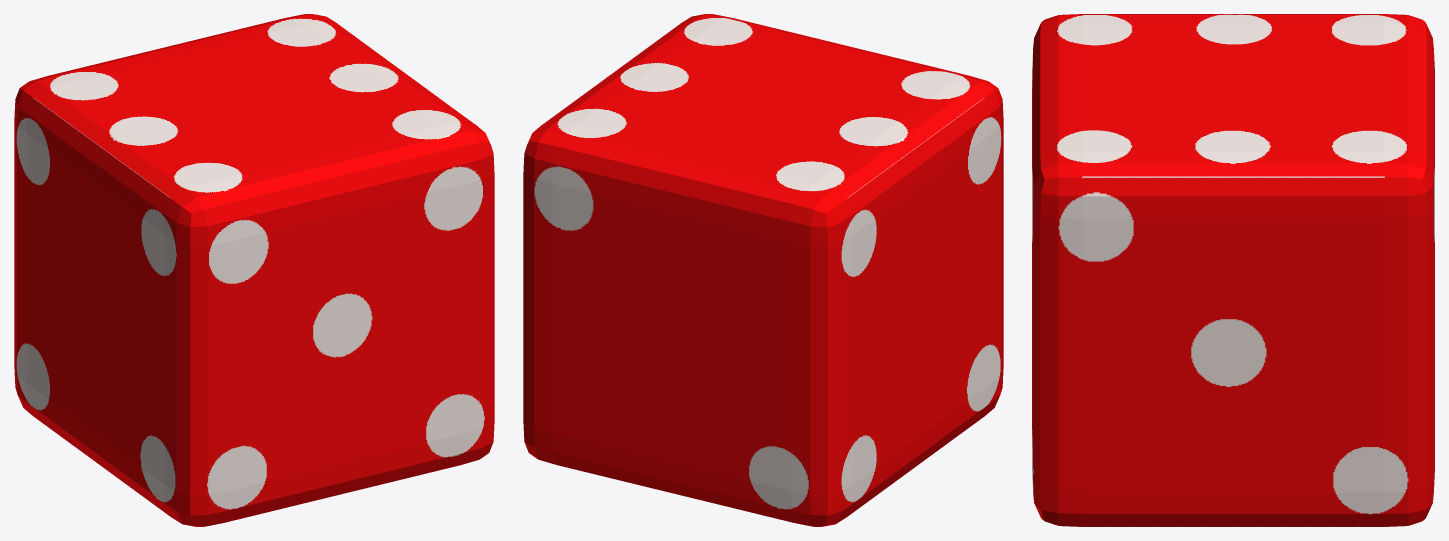
The model's file is redDice.fbx.
The picture shows the model from 3 angles, left to right: view 1: azimuth 30°, elevation 25°; view 2: azimuth 150°, elevation 25°; view 3: azimuth 270°, elevation 25°; orthographic projection. The views are drawn at different scales.
Parts seen in each view (by area): view 1: Cube; view 2: Cube; view 3: Cube.
Part boxes in pixels (box(x1,y1,x2,y2)): Cube: box(14, 14, 494, 526); Cube: box(523, 14, 1003, 526); Cube: box(1032, 14, 1434, 526).
Bounding box in the file's own units: 200 × 200 × 200.
1 material, 1 textured.
